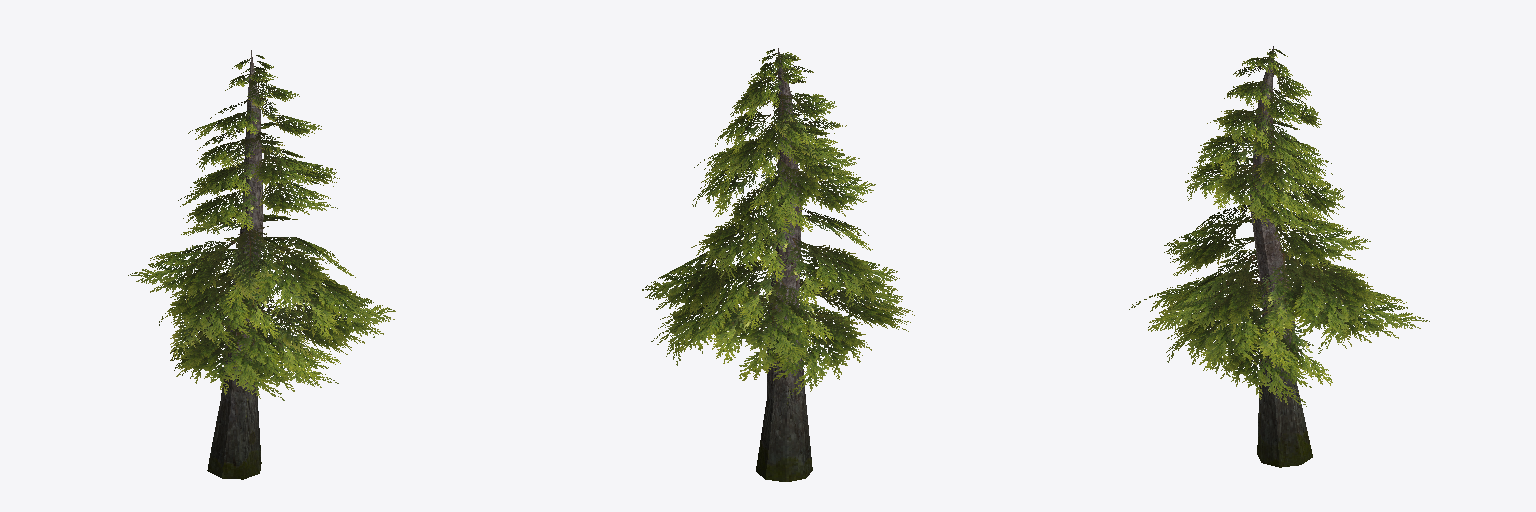
3 renders of one model, left to right at view 1: azimuth 30°, elevation 25°; view 2: azimuth 150°, elevation 25°; view 3: azimuth 270°, elevation 25°, orthographic.
Parts seen in each view (by area): view 1: Tree; view 2: Tree; view 3: Tree.
Part boxes in pixels (left/top/right/bottom): Tree: left=128, top=50, right=395, bottom=479; Tree: left=642, top=48, right=914, bottom=481; Tree: left=1129, top=46, right=1429, bottom=467.
Bounding box in the file's own units: 0.8242 × 1.37 × 0.9147.
2 materials, 2 textured.